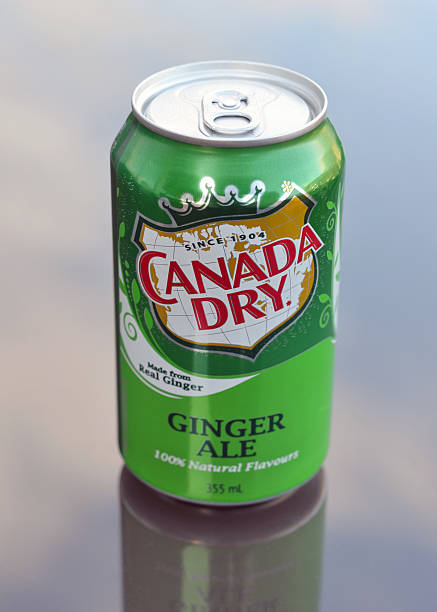Lata: (106, 55, 350, 528)
